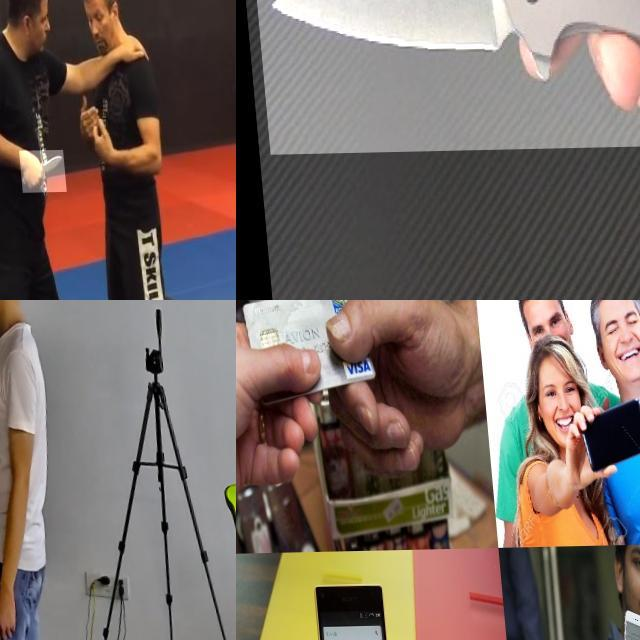-: (244, 0, 640, 154), (12, 152, 60, 194)
gun-knife-thesis - v11 Yolov5 augmented: (0, 300, 21, 345)
